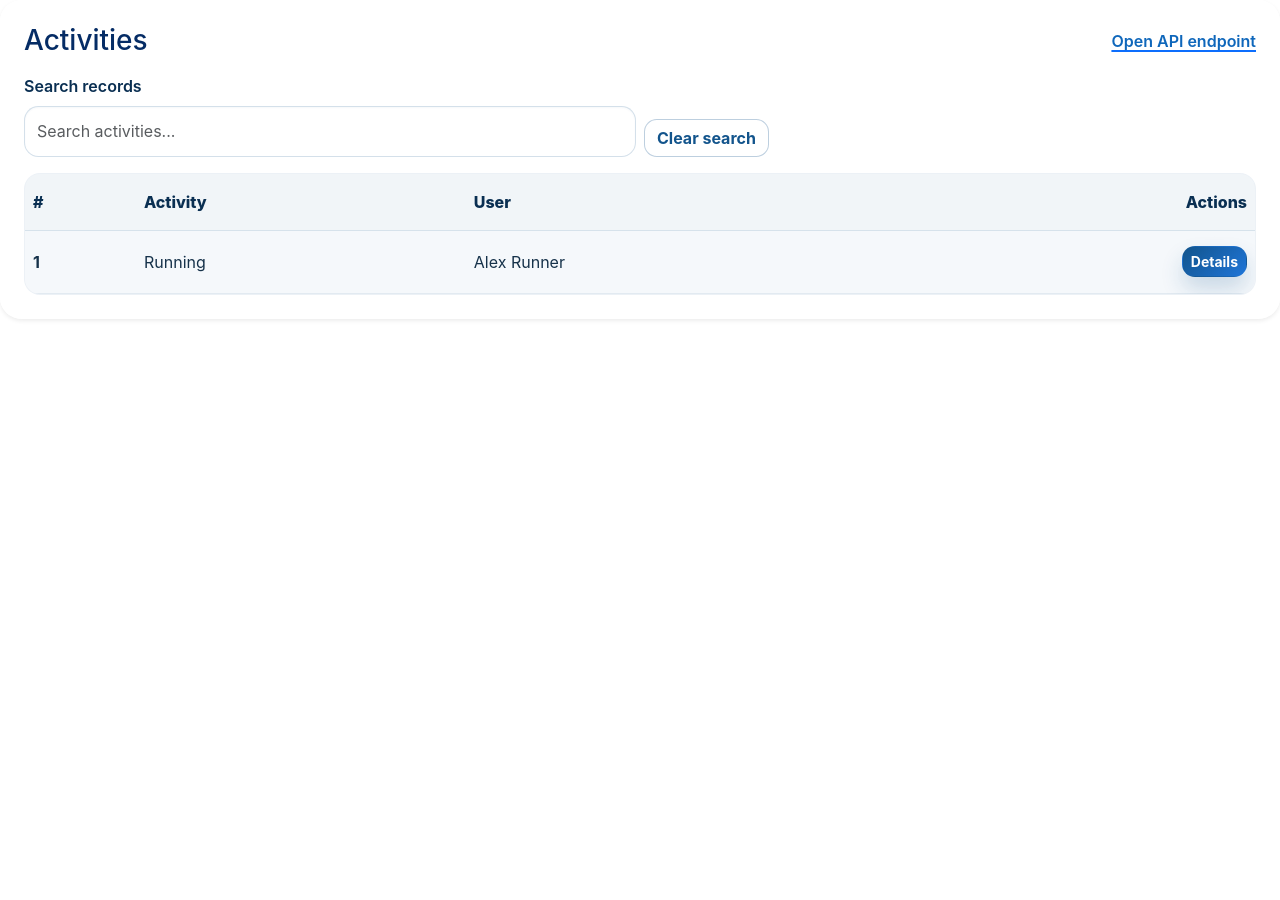
it: DataResourcePage › details dialog closes on escape and restores focus
Step 1. Click the button "Details" → (1214,262), box [1182, 246, 1247, 277]
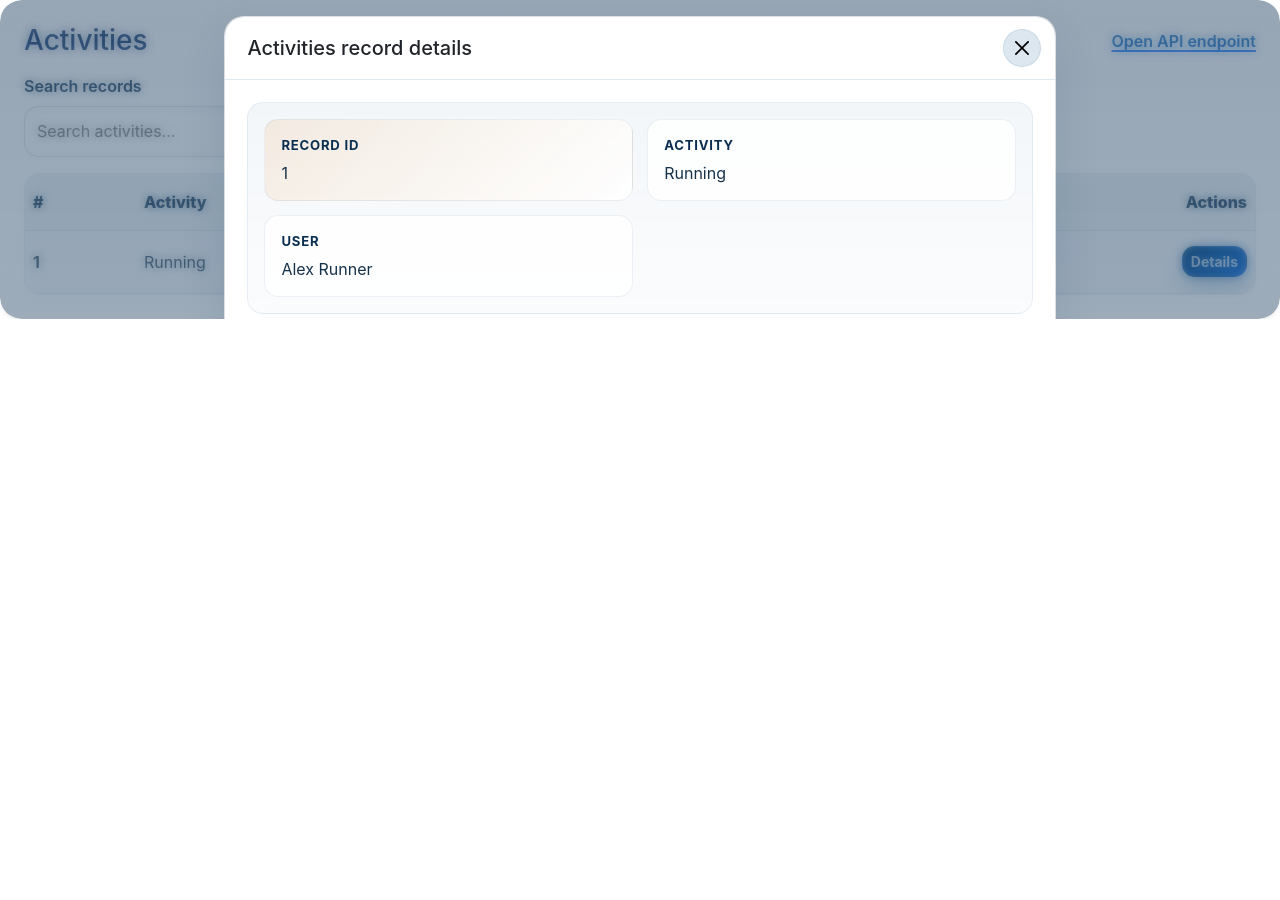
Now the dialog "Activities record details" is shown, box [224, 16, 1056, 319]
Step 2. Press Escape
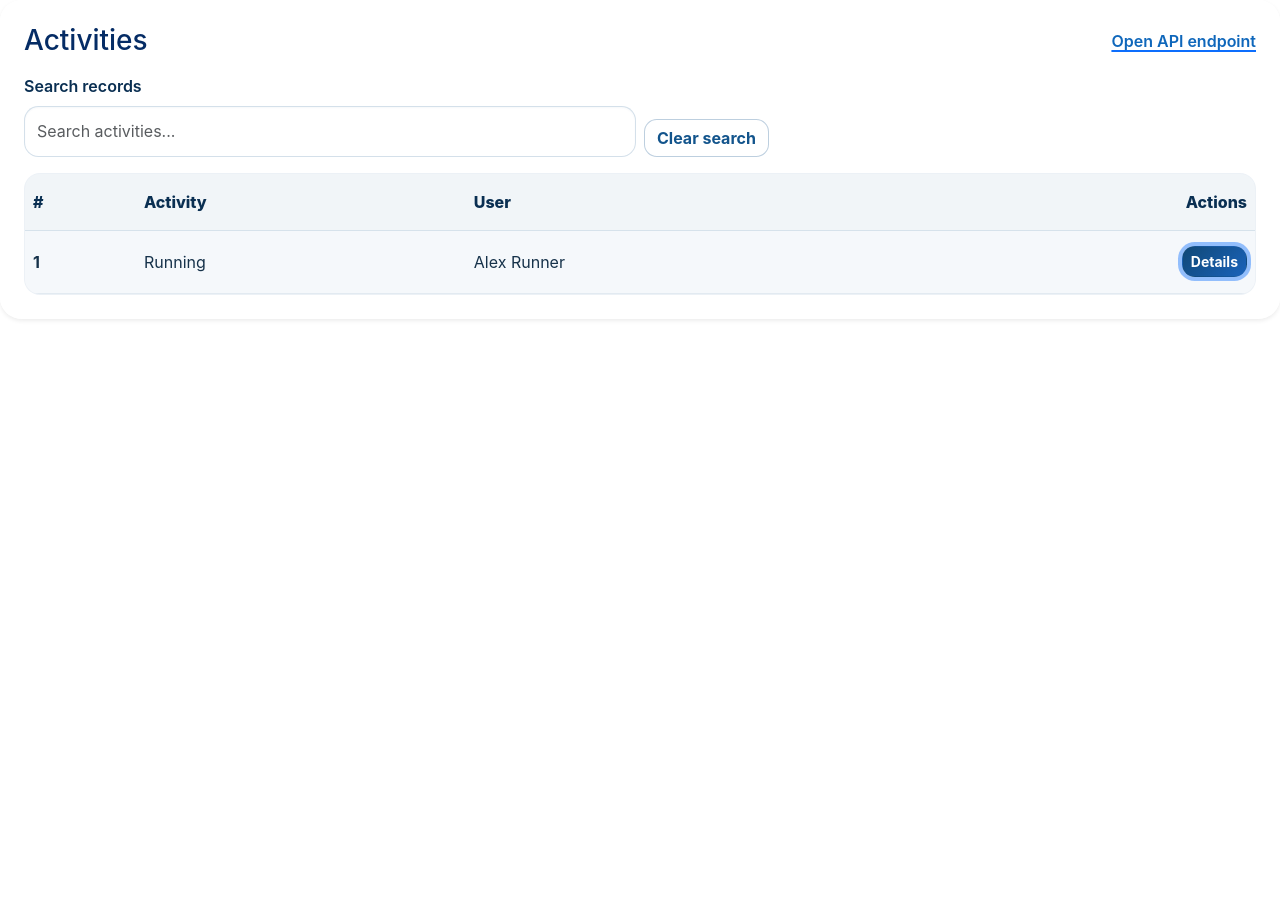
Now the heading "Activities record details" is gone
